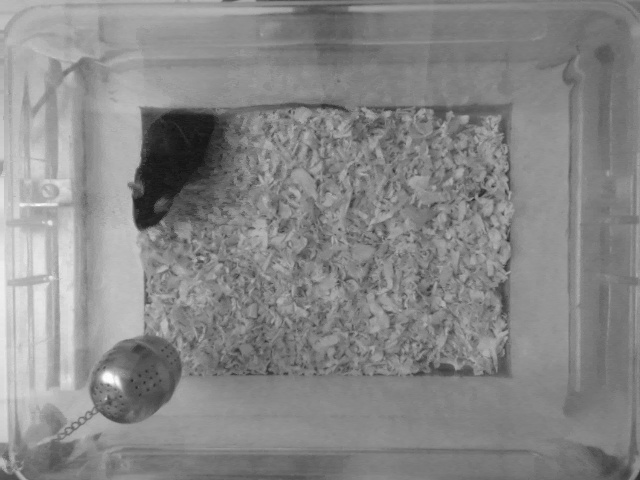mice: (128, 100, 350, 238)
